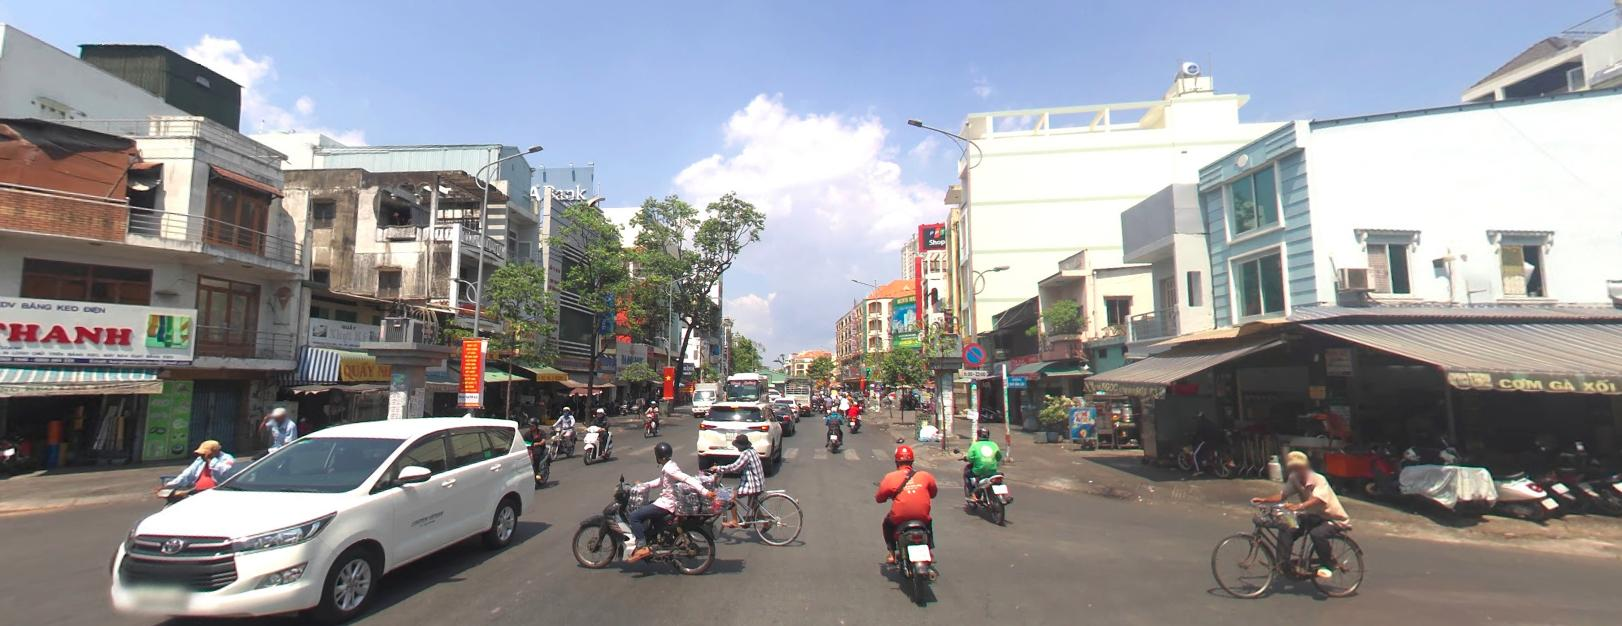Cam dung va do: (962, 341, 984, 364)
